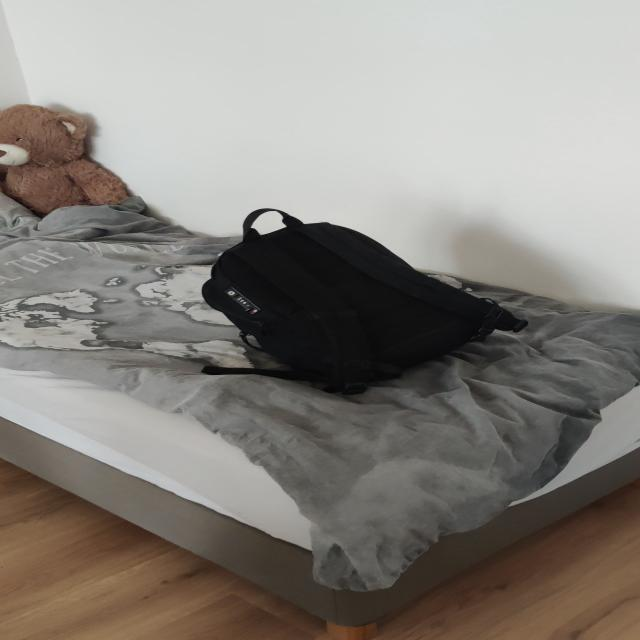backpack: (187, 211, 516, 395)
